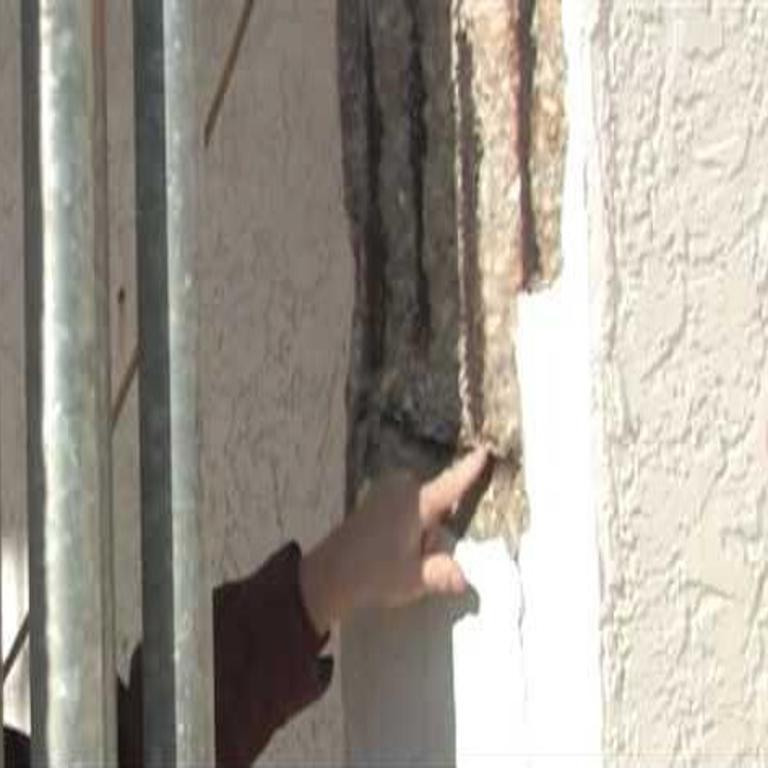crack: (513, 568, 528, 662)
damage: (334, 0, 574, 576)
